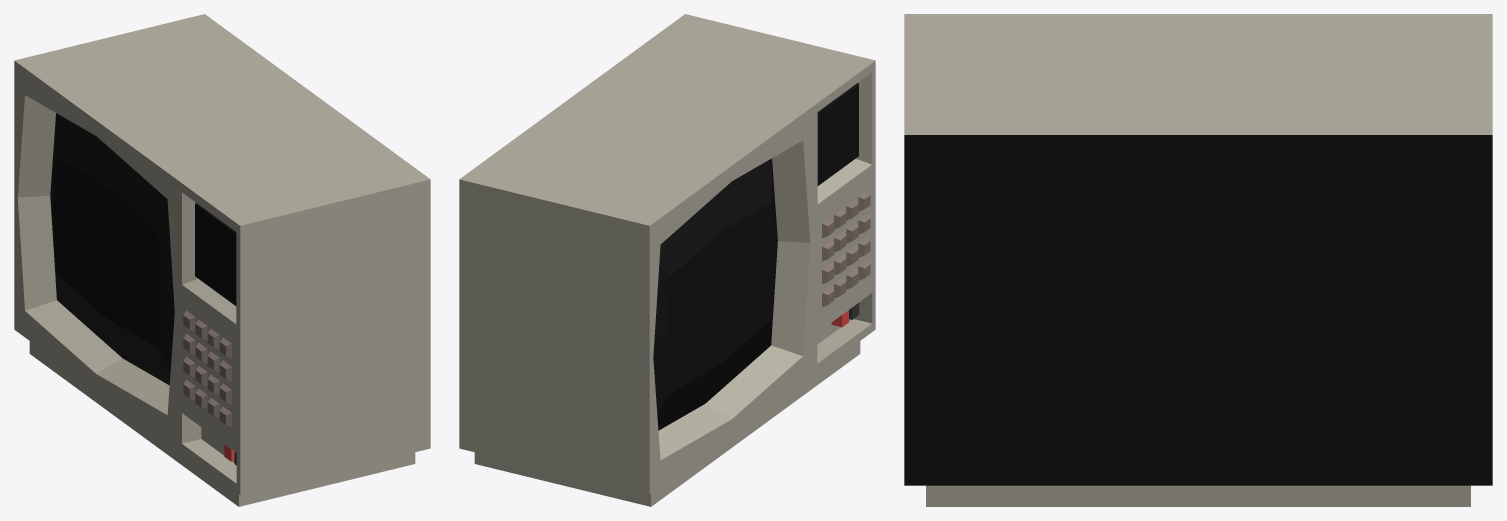
Rendered from computer.fbx.
The picture shows the model from 3 angles, left to right: view 1: azimuth 30°, elevation 25°; view 2: azimuth 150°, elevation 25°; view 3: azimuth 270°, elevation 25°; orthographic projection. The views are drawn at different scales.
Visible parts, largest first — view 1: computer_export; view 2: computer_export; view 3: computer_export.
Boxes of the visible parts, x1,y1,x2,y2 form: computer_export: (14, 14, 430, 506); computer_export: (459, 14, 875, 506); computer_export: (904, 14, 1492, 506).
Size of the model in its own units: 57.05 by 80.69 by 114.
